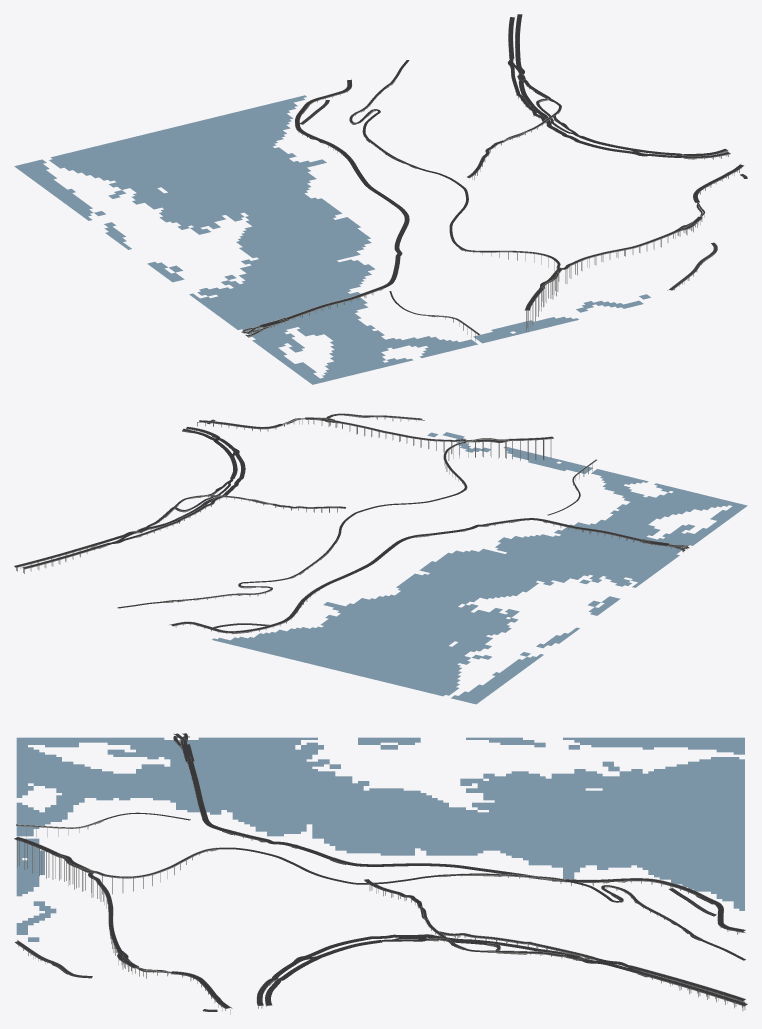
Rendered from chunk_5_2.glb.
3 views of the same model, one above another, from view 1: azimuth 30°, elevation 25°; view 2: azimuth 150°, elevation 25°; view 3: azimuth 270°, elevation 25° (orthographic). The views are drawn at different scales.
Visible parts, largest first — view 1: Water_5_2, Roads_5_2, RoadSides_5_2; view 2: Water_5_2, Roads_5_2, RoadSides_5_2; view 3: Water_5_2, Roads_5_2, RoadSides_5_2.
Part boxes in pixels (bbox=[...]): Water_5_2: bbox=[14, 95, 650, 384]; Roads_5_2: bbox=[242, 14, 747, 336]; RoadSides_5_2: bbox=[241, 14, 744, 341]; Water_5_2: bbox=[212, 432, 747, 704]; Roads_5_2: bbox=[14, 413, 689, 632]; RoadSides_5_2: bbox=[14, 413, 689, 633]; Water_5_2: bbox=[16, 737, 744, 941]; Roads_5_2: bbox=[14, 733, 747, 1011]; RoadSides_5_2: bbox=[14, 733, 747, 1014].
Size of the model in its own units: 2055 by 147 by 2063.
